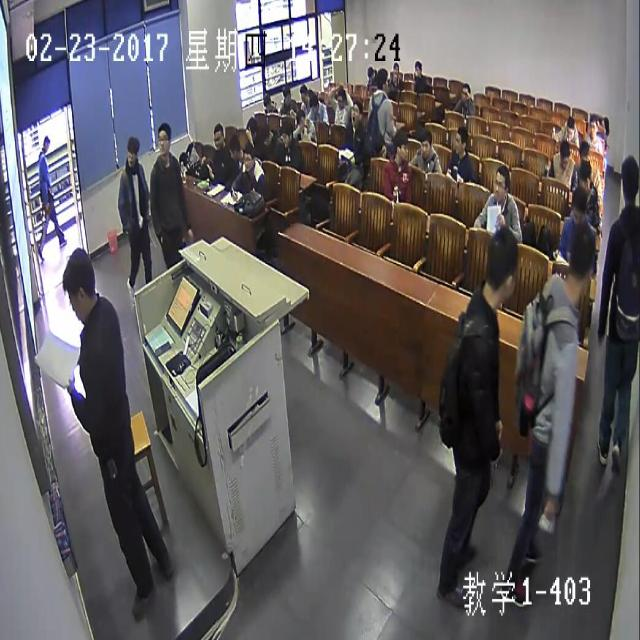person: (62, 248, 96, 320), (487, 226, 515, 302), (570, 224, 594, 286), (618, 154, 638, 199), (571, 187, 585, 226), (493, 167, 508, 203), (395, 130, 409, 163), (577, 159, 589, 195), (124, 133, 137, 165), (158, 122, 170, 155), (454, 126, 466, 156), (242, 143, 254, 171), (350, 99, 362, 126), (228, 132, 240, 159), (212, 121, 223, 150), (259, 121, 271, 147), (419, 127, 430, 154), (281, 119, 292, 145), (245, 114, 256, 139), (559, 140, 569, 167), (578, 143, 588, 169), (376, 67, 386, 91), (336, 85, 345, 109), (462, 82, 471, 104), (308, 91, 317, 113), (299, 82, 308, 103), (296, 106, 304, 128), (565, 115, 573, 136), (588, 115, 596, 136), (282, 84, 290, 104), (262, 91, 269, 108), (414, 60, 421, 75), (367, 64, 373, 78), (393, 61, 398, 77)
